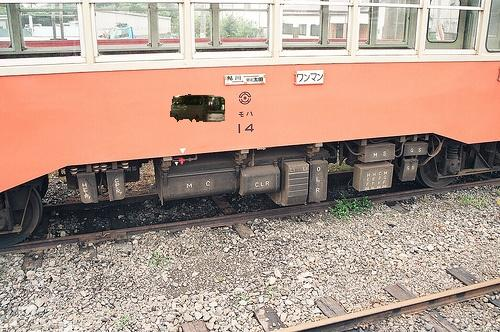tampered: (171, 95, 225, 122)
